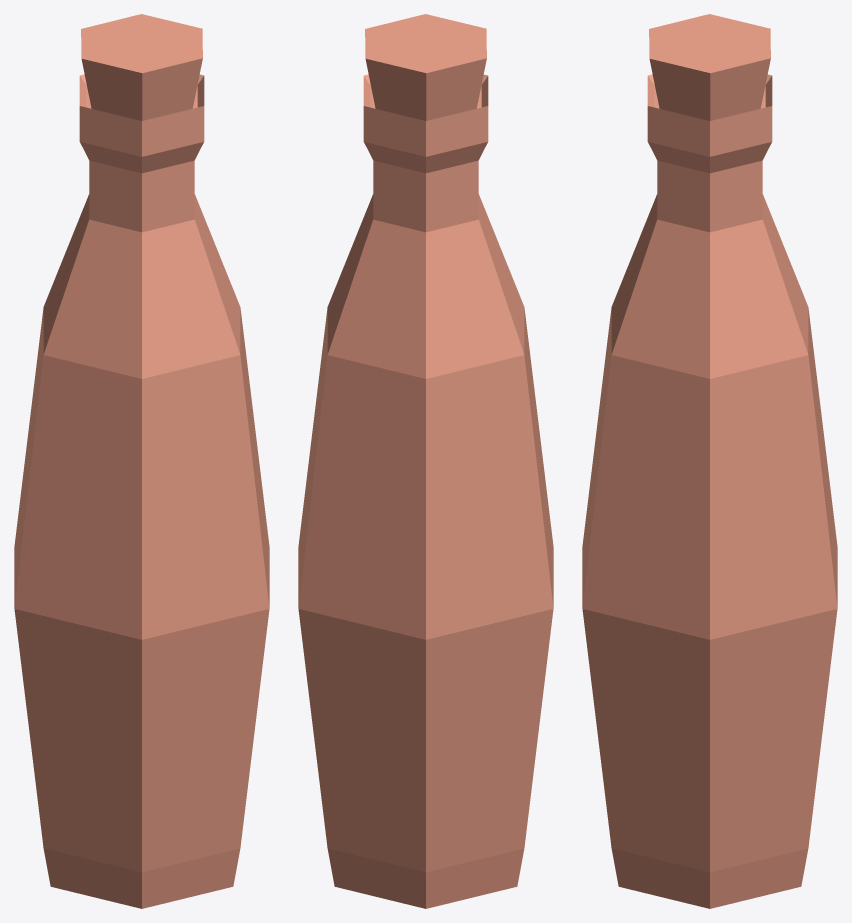
File: Potion.001.fbx
3 renders of one model, left to right at view 1: azimuth 30°, elevation 25°; view 2: azimuth 150°, elevation 25°; view 3: azimuth 270°, elevation 25°, orthographic.
Visible parts, largest first — view 1: Potion.001; view 2: Potion.001; view 3: Potion.001.
Boxes of the visible parts, bbox=[...] form: Potion.001: bbox=[14, 14, 269, 908]; Potion.001: bbox=[298, 14, 553, 908]; Potion.001: bbox=[582, 14, 837, 908].
Size of the model in its own units: 15.79 by 48.55 by 13.67.
